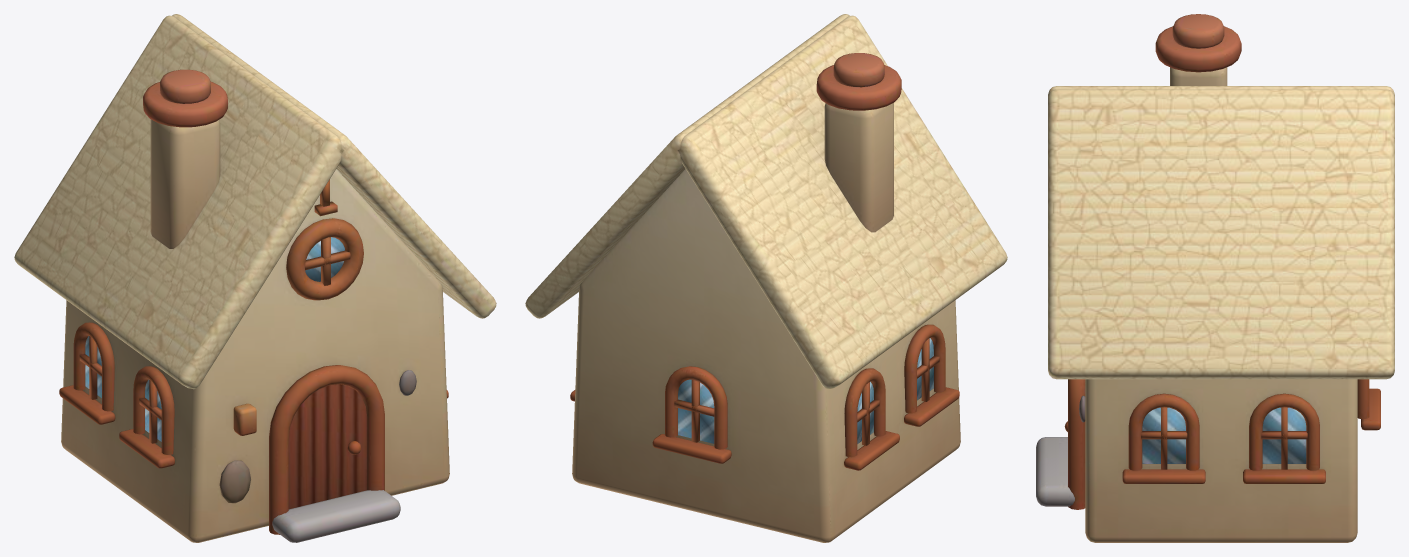
File: hut_high.glb
3 renders of one model, left to right at view 1: azimuth 30°, elevation 25°; view 2: azimuth 150°, elevation 25°; view 3: azimuth 270°, elevation 25°, orthographic.
Parts seen in each view (by area): view 1: hut; view 2: hut; view 3: hut.
Boxes of the visible parts, left/top/right/bottom form: hut: left=14, top=14, right=496, bottom=542; hut: left=525, top=14, right=1007, bottom=542; hut: left=1036, top=14, right=1394, bottom=542.
Bounding box in the file's own units: 1.28 × 1.62 × 1.25.
Materials: 1 (1 with a texture image).
